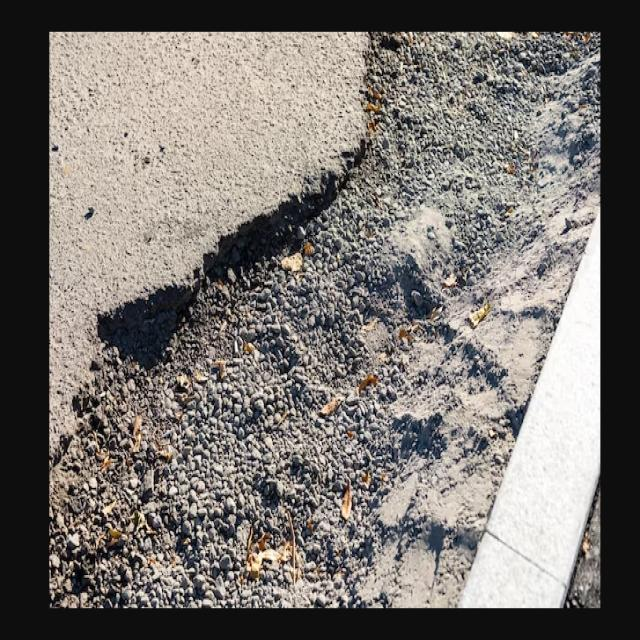Pothole: (54, 38, 604, 600)
